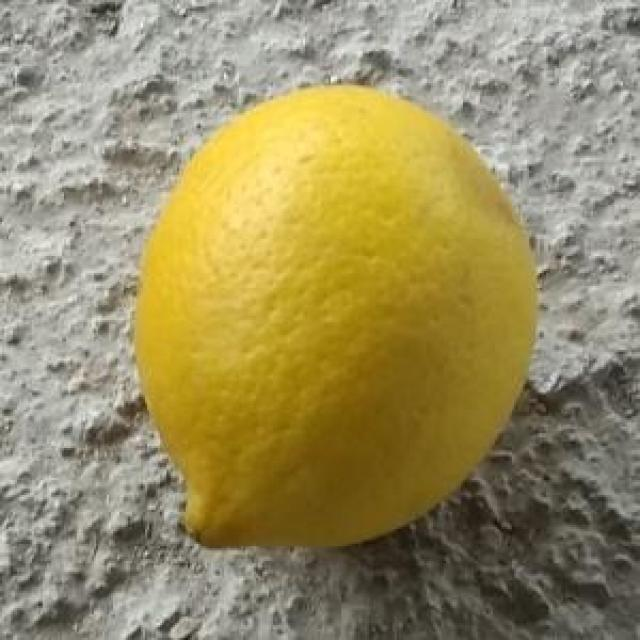lemon: (130, 84, 540, 558)
